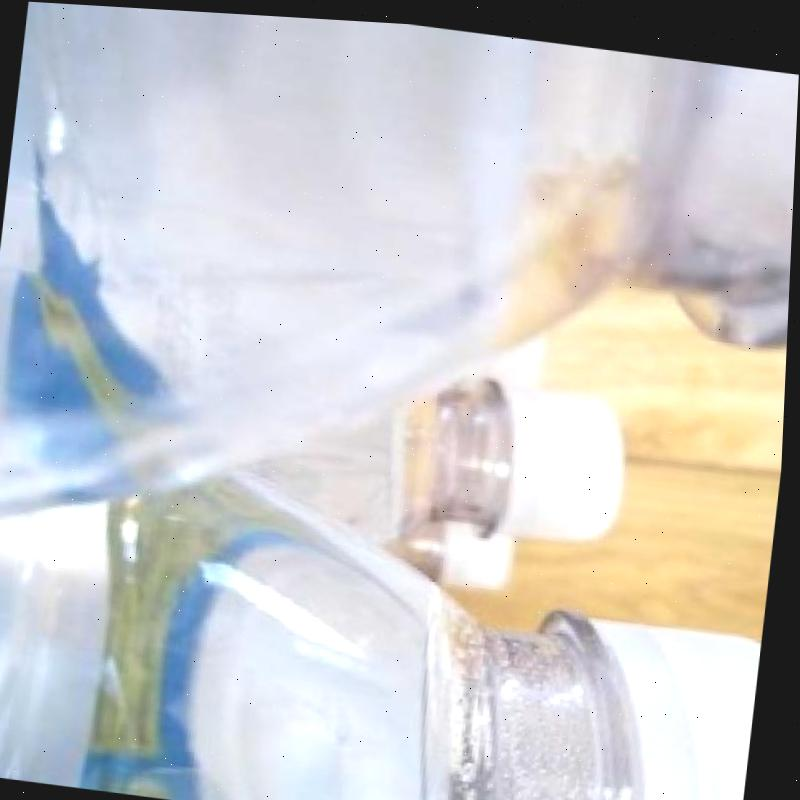botella: (0, 0, 800, 614), (0, 437, 779, 800), (226, 338, 633, 572), (384, 502, 523, 593), (483, 318, 545, 379)
